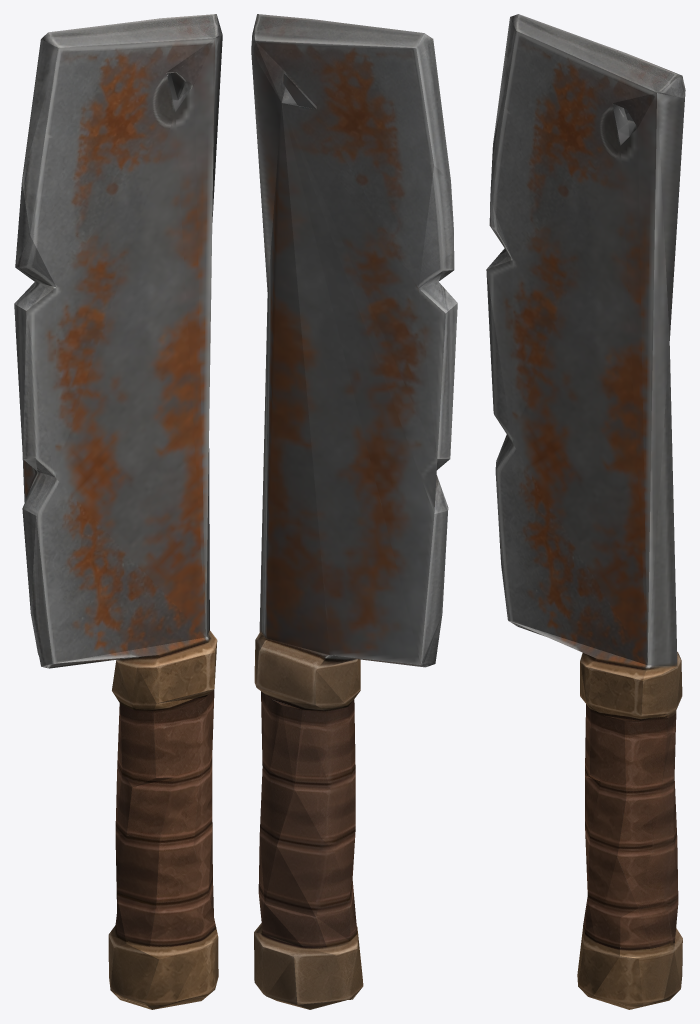
Rendered from goblin_weapon.glb.
3 renders of one model, left to right at view 1: azimuth 30°, elevation 25°; view 2: azimuth 150°, elevation 25°; view 3: azimuth 330°, elevation 25°, orthographic. The views are drawn at different scales.
Visible parts, largest first — view 1: mesh_node; view 2: mesh_node; view 3: mesh_node.
Part boxes in pixels (x1,y1,x2,y2): mesh_node: [14, 14, 222, 1009]; mesh_node: [251, 14, 457, 1009]; mesh_node: [486, 14, 685, 1009].
Size of the model in its own units: 0.4332 by 2 by 0.1842.
Materials: 1 (1 with a texture image).
